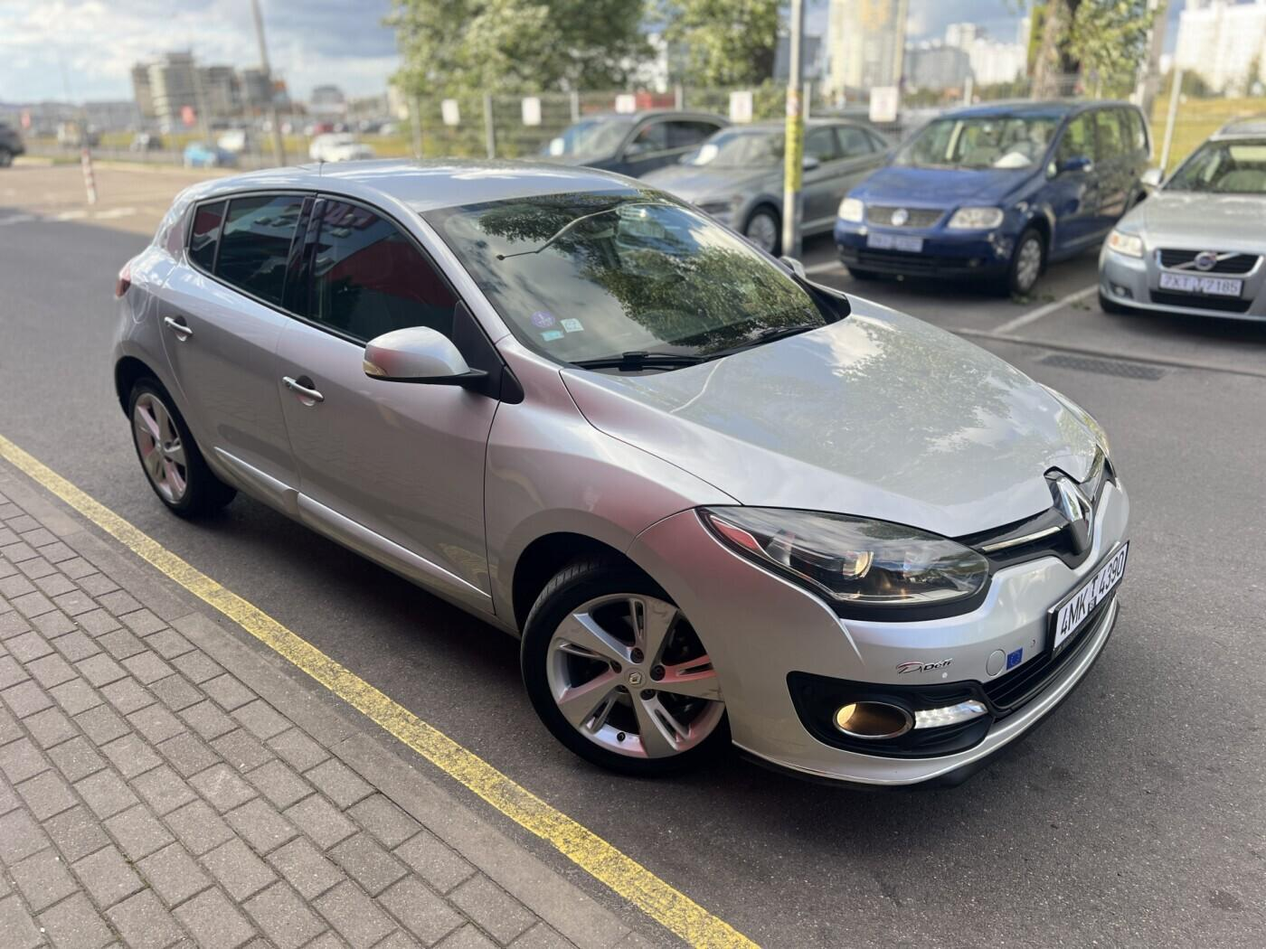Megane_2014-2016: (90, 159, 1134, 793)
